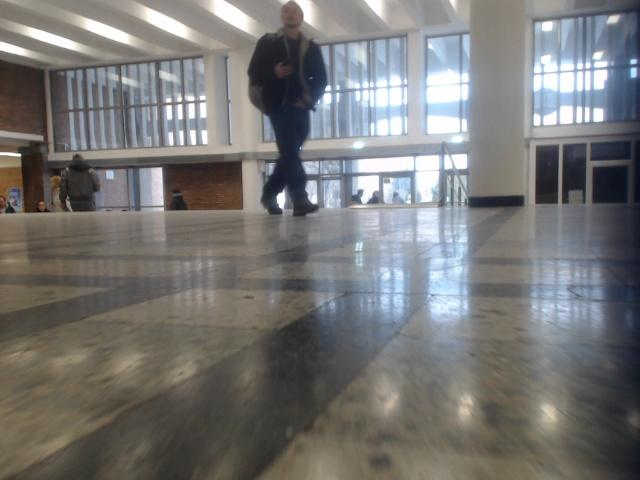rampDown: (348, 202, 440, 209)
ramps-railing: (440, 141, 460, 206)
